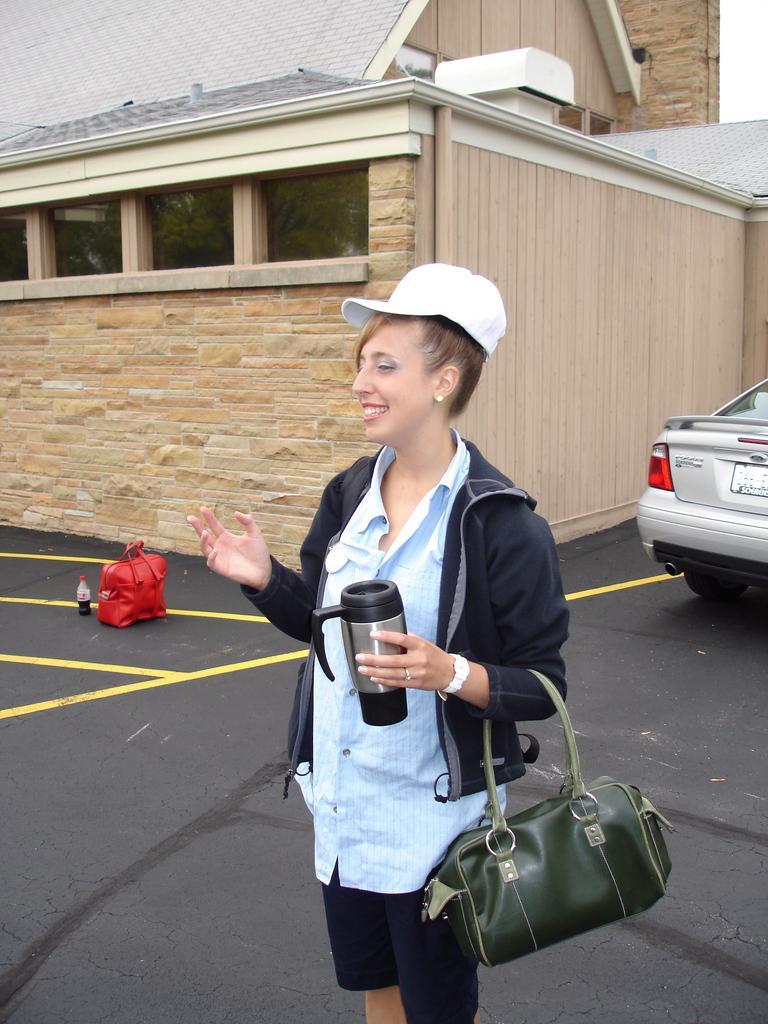Hat: (341, 260, 505, 362)
